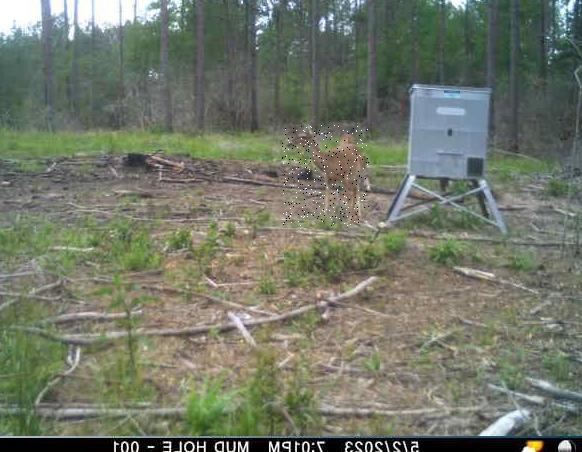Deer: (282, 125, 369, 226), (334, 132, 357, 147)
